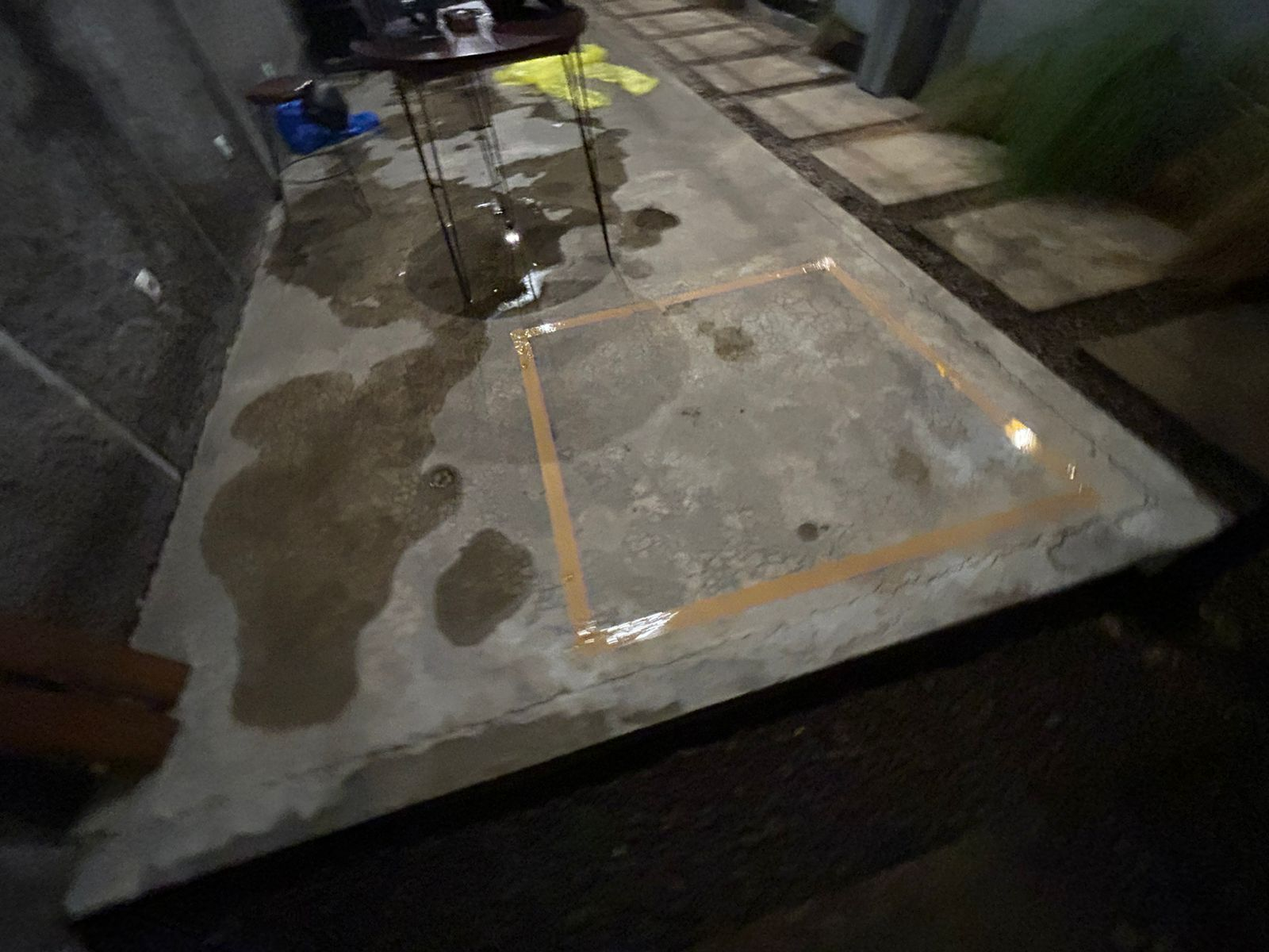floor marking: (512, 257, 1098, 646)
